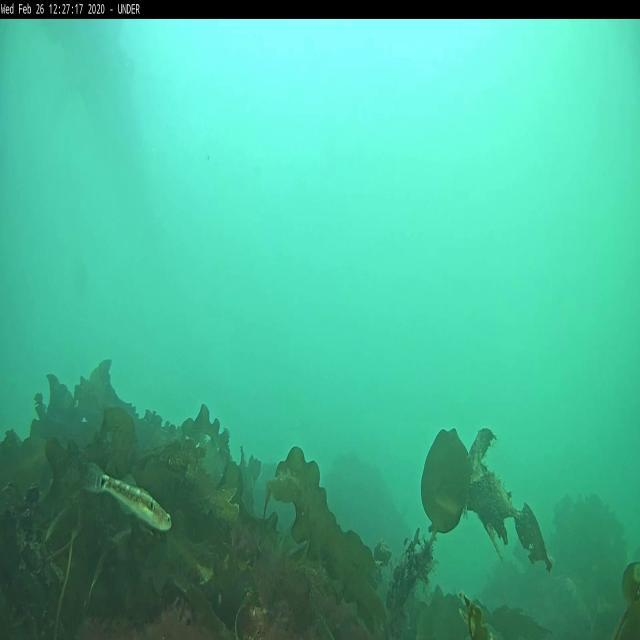fish: (84, 462, 174, 530)
